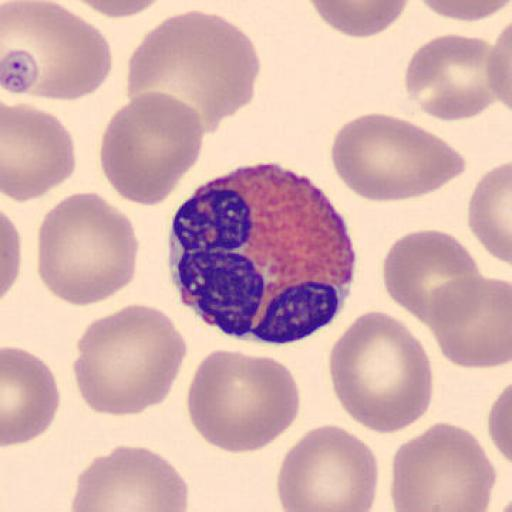RBC: (126, 9, 262, 135), (328, 308, 434, 437), (71, 302, 188, 417), (329, 110, 467, 203), (186, 348, 302, 454), (99, 91, 205, 207), (36, 191, 140, 307), (0, 0, 114, 102), (389, 420, 497, 512), (383, 227, 482, 327), (276, 421, 380, 512), (403, 31, 494, 123), (425, 274, 512, 370), (70, 443, 190, 512), (2, 102, 78, 203), (2, 345, 61, 448), (468, 158, 512, 268), (307, 0, 410, 39), (486, 377, 512, 509), (486, 20, 512, 116), (488, 378, 512, 474), (0, 207, 23, 306), (418, 0, 512, 23), (56, 0, 172, 18)
WBC: (166, 158, 360, 344)
